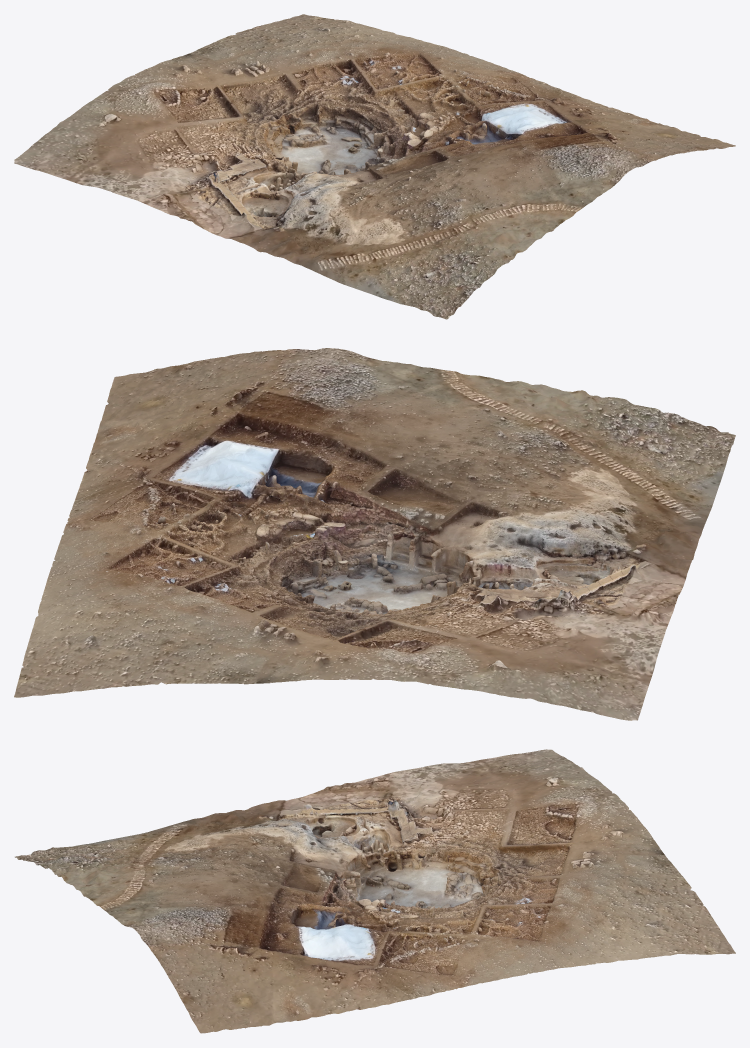
File: sf-karahan-tepe-116f3f.glb
3 renders of one model, top to bottom at view 1: azimuth 30°, elevation 25°; view 2: azimuth 150°, elevation 25°; view 3: azimuth 270°, elevation 25°, orthographic. The views are drawn at different scales.
Visible parts, largest first — view 1: Model_material0_0, Model_material1_0; view 2: Model_material0_0, Model_material1_0; view 3: Model_material1_0, Model_material0_0.
Boxes of the visible parts, <box> form: Model_material0_0: <box>14,44,666,319</box>; Model_material1_0: <box>124,14,735,282</box>; Model_material0_0: <box>94,348,735,720</box>; Model_material1_0: <box>14,351,710,697</box>; Model_material1_0: <box>149,769,735,1033</box>; Model_material0_0: <box>15,749,662,960</box>.
Size of the model in its own units: 54.13 by 5.36 by 57.72.
Materials: 2 (2 with a texture image).
